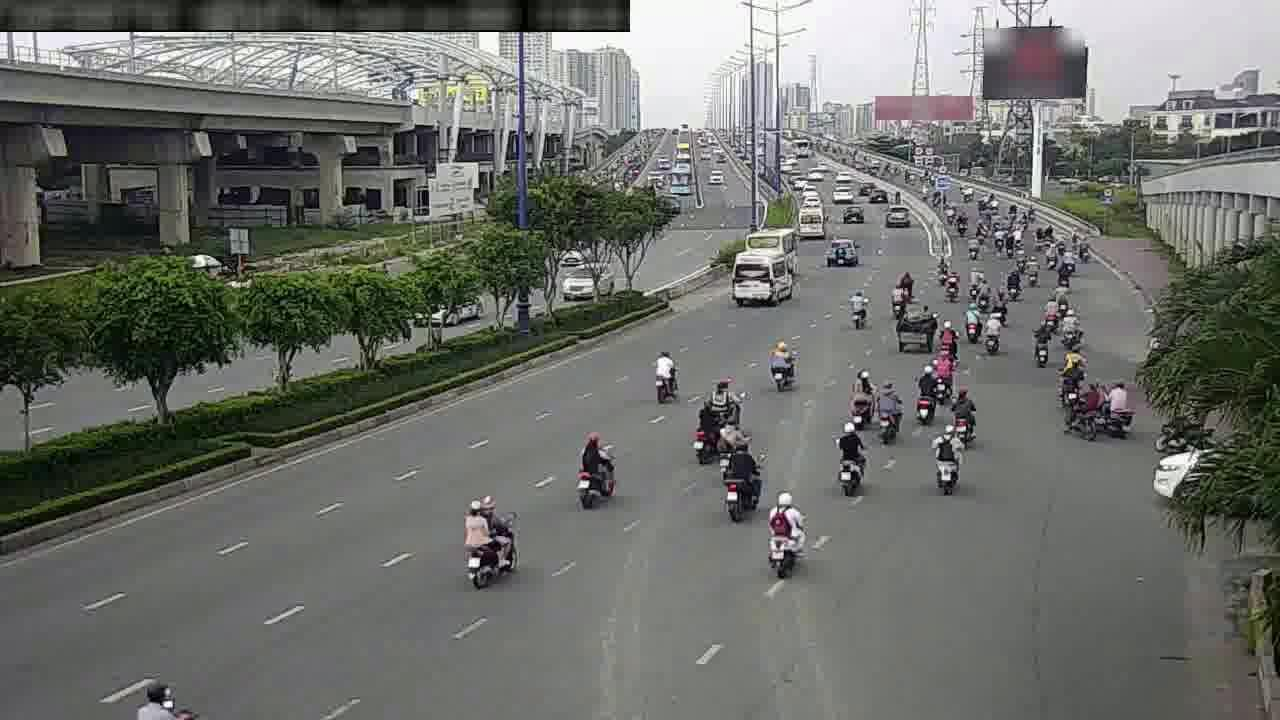14: (726, 246, 798, 303)
motorbike: (458, 491, 516, 592), (720, 434, 764, 517), (573, 425, 617, 506), (764, 490, 804, 576), (831, 416, 869, 493), (1091, 376, 1138, 434), (1062, 374, 1106, 434), (926, 428, 964, 495), (687, 393, 721, 459), (870, 383, 903, 444), (846, 367, 878, 423), (947, 390, 980, 443), (648, 349, 680, 403), (909, 373, 939, 428), (767, 338, 798, 391), (714, 377, 742, 432), (1050, 358, 1080, 408), (926, 349, 957, 397), (842, 285, 871, 328), (980, 311, 1007, 356), (960, 299, 987, 344), (887, 271, 915, 314), (1028, 323, 1055, 367), (1059, 307, 1086, 346), (932, 316, 958, 355), (1060, 335, 1085, 375), (1040, 294, 1064, 330), (990, 286, 1012, 324), (939, 266, 962, 302), (1002, 265, 1024, 301), (964, 266, 986, 301)
